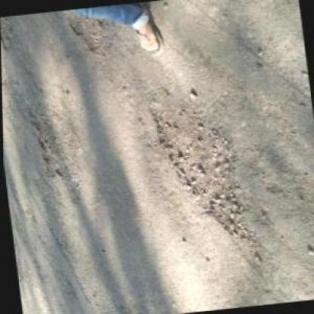Hueco: (143, 89, 256, 252), (26, 100, 68, 182), (65, 11, 109, 55)
